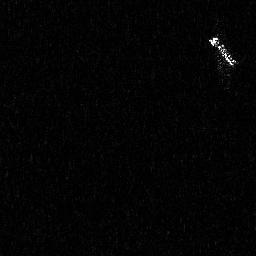ship: (205, 33, 237, 70)
